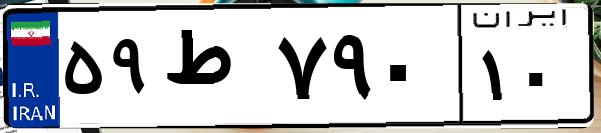0: (385, 28, 445, 110), (525, 38, 570, 115)
1: (475, 38, 525, 113)
5: (57, 26, 110, 100)
7: (270, 28, 330, 110)
9: (330, 28, 385, 110), (110, 28, 158, 98)
ط: (158, 20, 270, 120)
